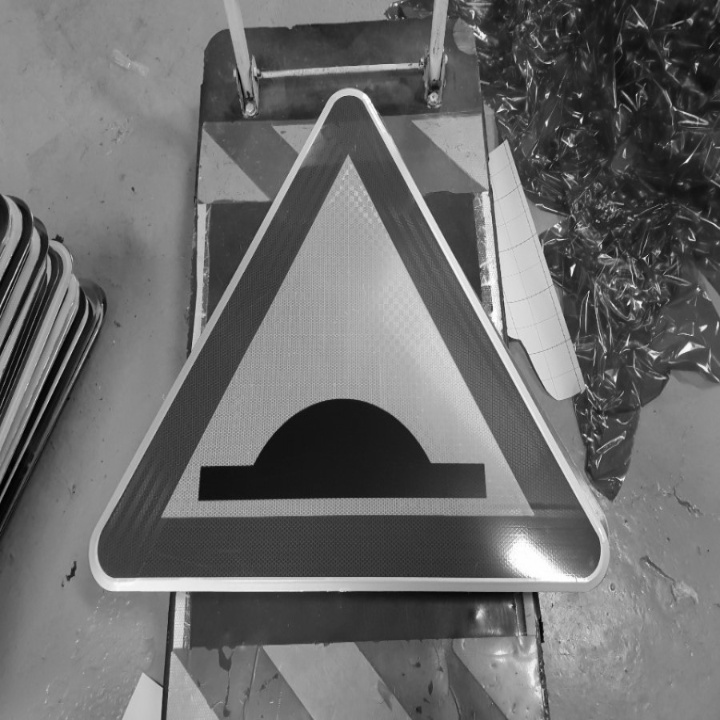bump: (197, 387, 509, 518)
